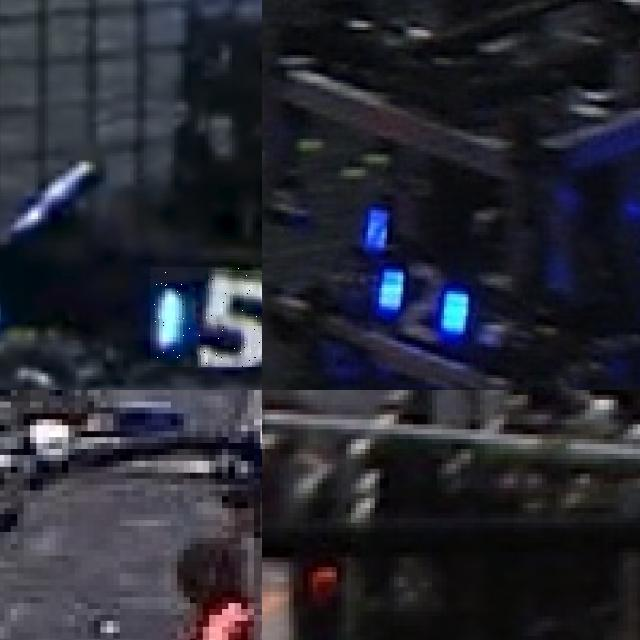B2: (367, 254, 478, 347)
B5: (150, 267, 262, 367)
